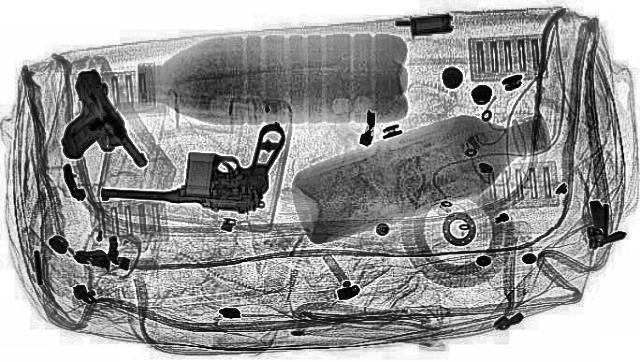Gun: (97, 119, 285, 212), (23, 68, 153, 176)
